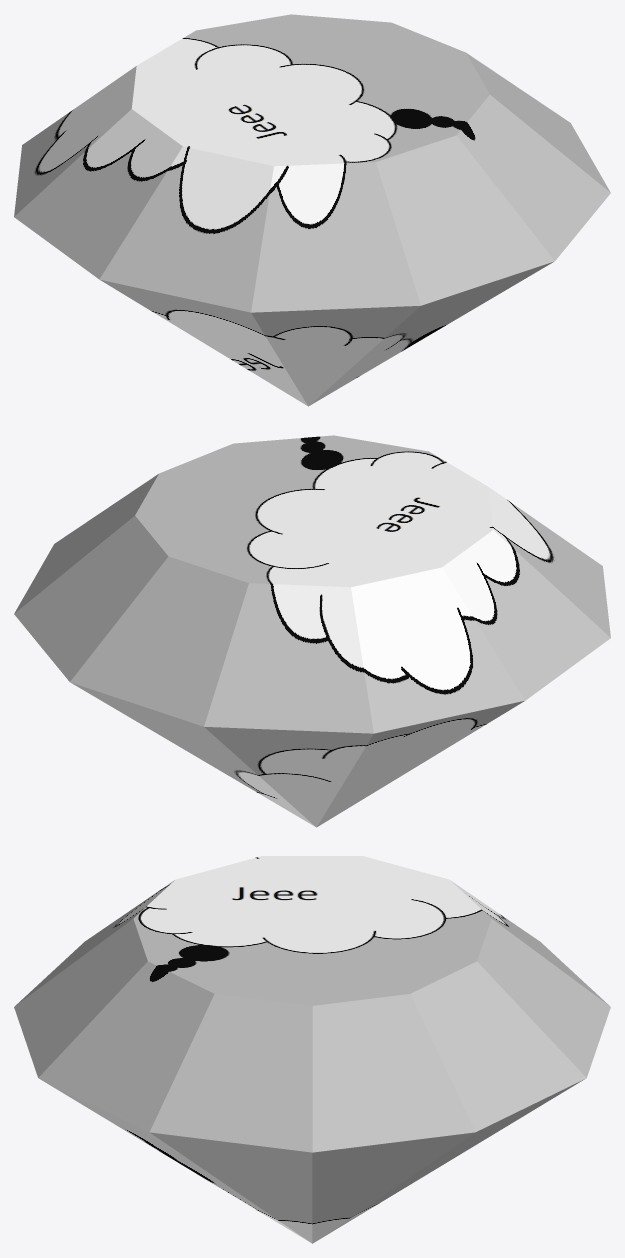
Rendered from diamondDiffuseSpecular.dae.
3 renders of one model, top to bottom at view 1: azimuth 30°, elevation 25°; view 2: azimuth 150°, elevation 25°; view 3: azimuth 270°, elevation 25°, orthographic.
Parts seen in each view (by area): view 1: Diamond; view 2: Diamond; view 3: Diamond.
Part boxes in pixels (x1=…): Diamond: x1=14, y1=14, x2=610, y2=406; Diamond: x1=14, y1=435, x2=610, y2=827; Diamond: x1=14, y1=856, x2=610, y2=1243.
Size of the model in its own units: 1.96 by 1.98 by 1.15.
1 material, 1 textured.
